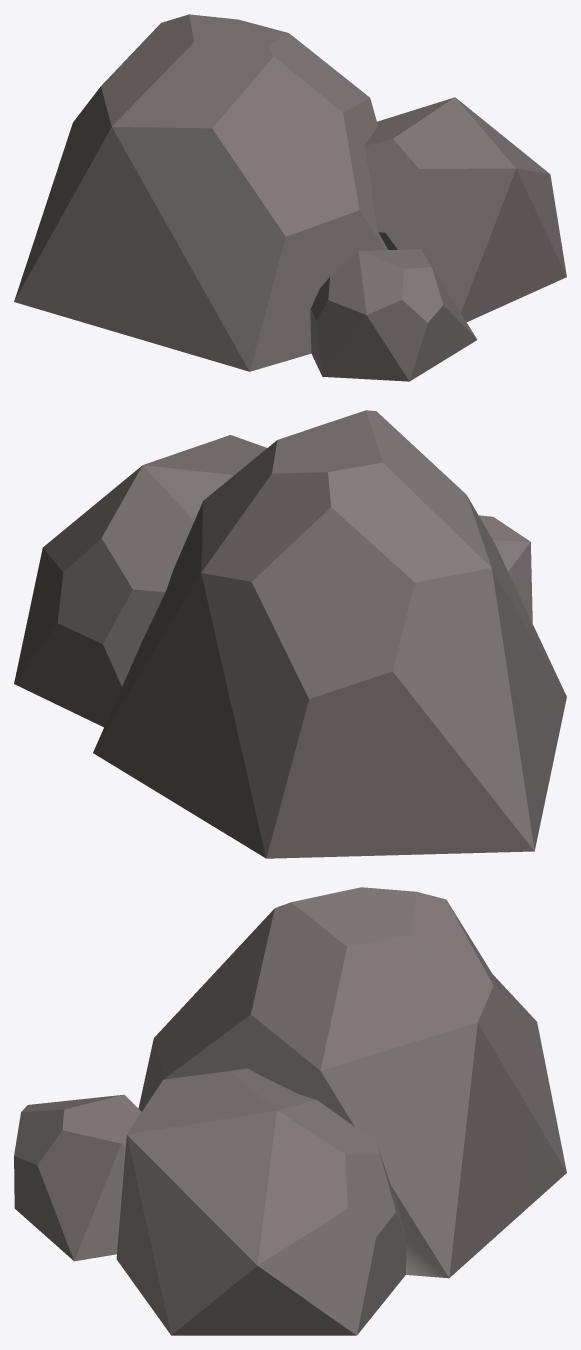
Rendered from PlainsStone(1).fbx.
The picture shows the model from 3 angles, top to bottom: view 1: azimuth 30°, elevation 25°; view 2: azimuth 150°, elevation 25°; view 3: azimuth 270°, elevation 25°; orthographic projection. The views are drawn at different scales.
Parts seen in each view (by area): view 1: PlainsStone(1); view 2: PlainsStone(1); view 3: PlainsStone(1).
Boxes of the visible parts, x1=… form: PlainsStone(1): x1=14, y1=14, x2=566, y2=381; PlainsStone(1): x1=14, y1=410, x2=566, y2=858; PlainsStone(1): x1=14, y1=887, x2=566, y2=1335.
Size of the model in its own units: 1.63 by 0.8599 by 1.47.
